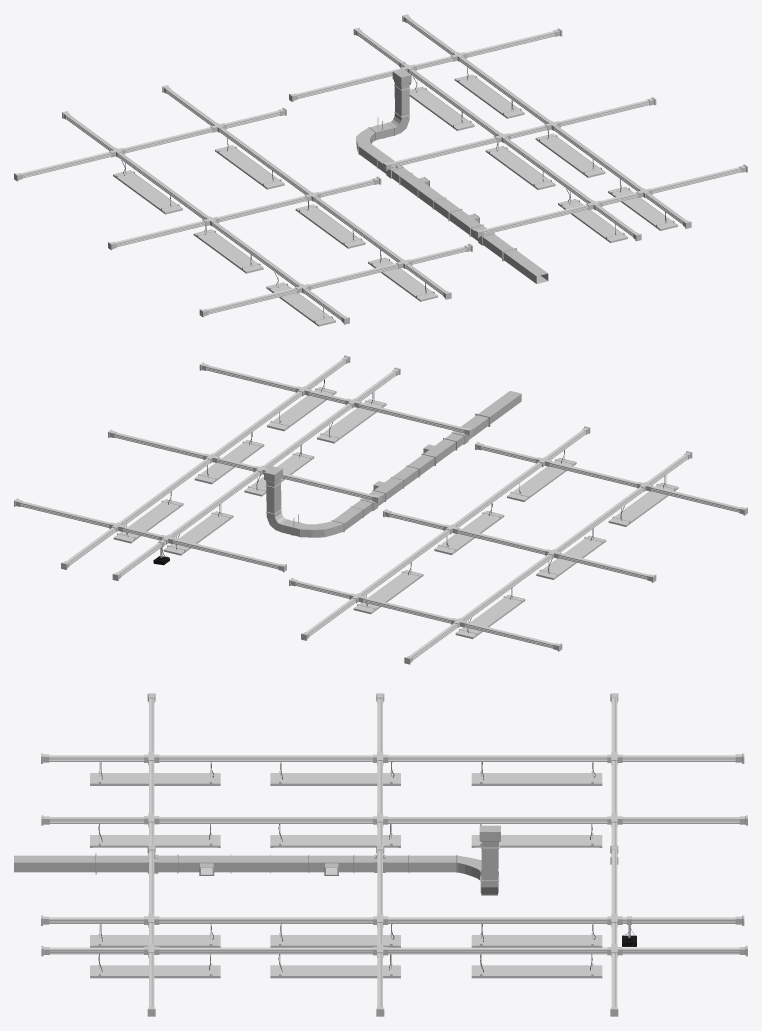
Rendered from labaratory_ceiling.fbx.
3 views of the same model, one above another, from view 1: azimuth 30°, elevation 25°; view 2: azimuth 150°, elevation 25°; view 3: azimuth 270°, elevation 25° (orthographic). The views are drawn at different scales.
Visible parts, largest first — view 1: Cube.010; view 2: Cube.010; view 3: Cube.010.
Boxes of the visible parts, x1=… form: Cube.010: x1=14, y1=14, x2=747, y2=326; Cube.010: x1=14, y1=355, x2=747, y2=664; Cube.010: x1=14, y1=693, x2=747, y2=1016.
Bounding box in the file's own units: 26.8 × 3.58 × 25.11.
